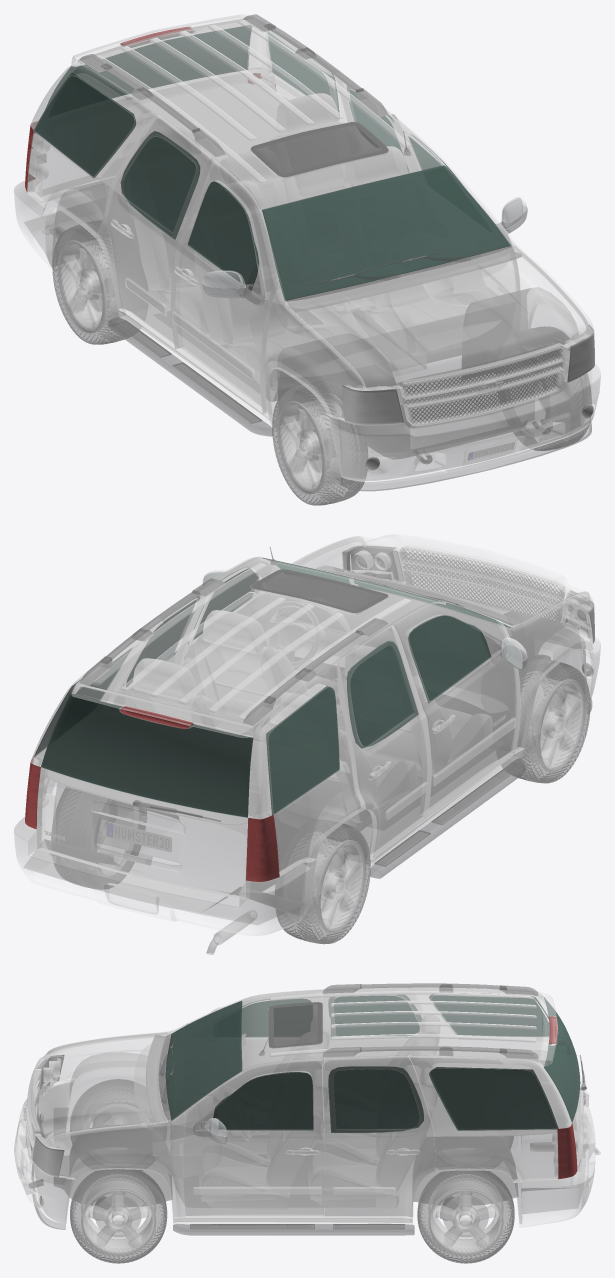
The model's file is 2010_chevrolet_tahoe.glb.
3 views of the same model, one above another, from view 1: azimuth 30°, elevation 25°; view 2: azimuth 150°, elevation 25°; view 3: azimuth 270°, elevation 25° (orthographic). The views are drawn at different scales.
Parts seen in each view (by area): view 1: Chevrolet_Tahoe_2010_0; view 2: Chevrolet_Tahoe_2010_0; view 3: Chevrolet_Tahoe_2010_0.
Part boxes in pixels (box(x1,y1,x2,y2)): Chevrolet_Tahoe_2010_0: box(14, 14, 600, 505); Chevrolet_Tahoe_2010_0: box(14, 534, 600, 954); Chevrolet_Tahoe_2010_0: box(14, 983, 600, 1263).
Bounding box in the file's own units: 256 × 195 × 513.
